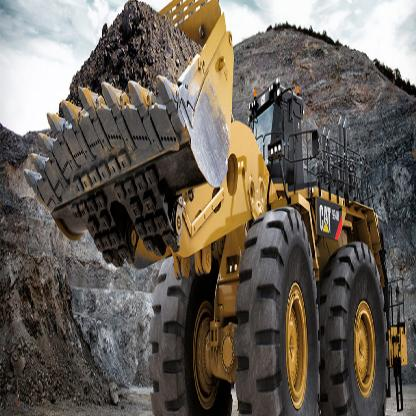bull_dozer/loader/grader: (32, 4, 410, 415)
